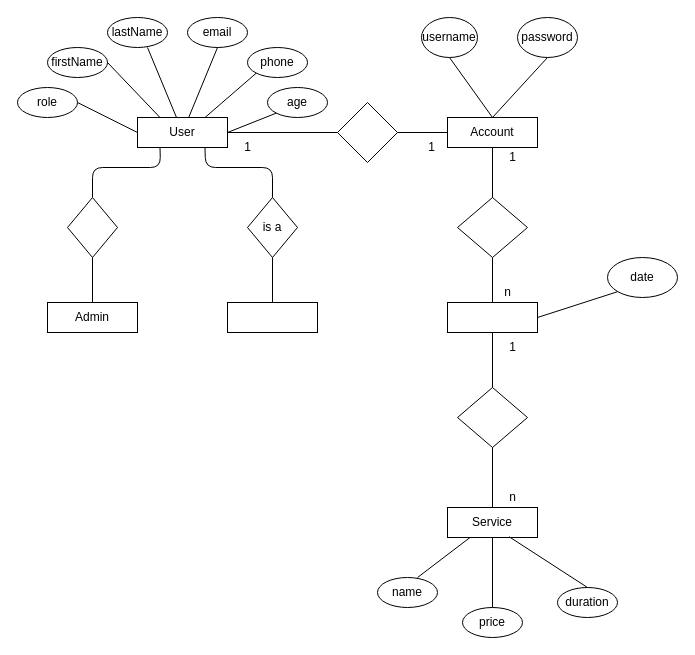
Image size: 695x655. Some labels were removed from this diagram. Each missing label, with the centre of its shape:
"Appointment" belongs at [492,317].
"Client" belongs at [272,317].
"contains" belongs at [492,227].
"has" belongs at [492,417].
"has an" belongs at [367,132].
"is an" belongs at [92,227].
